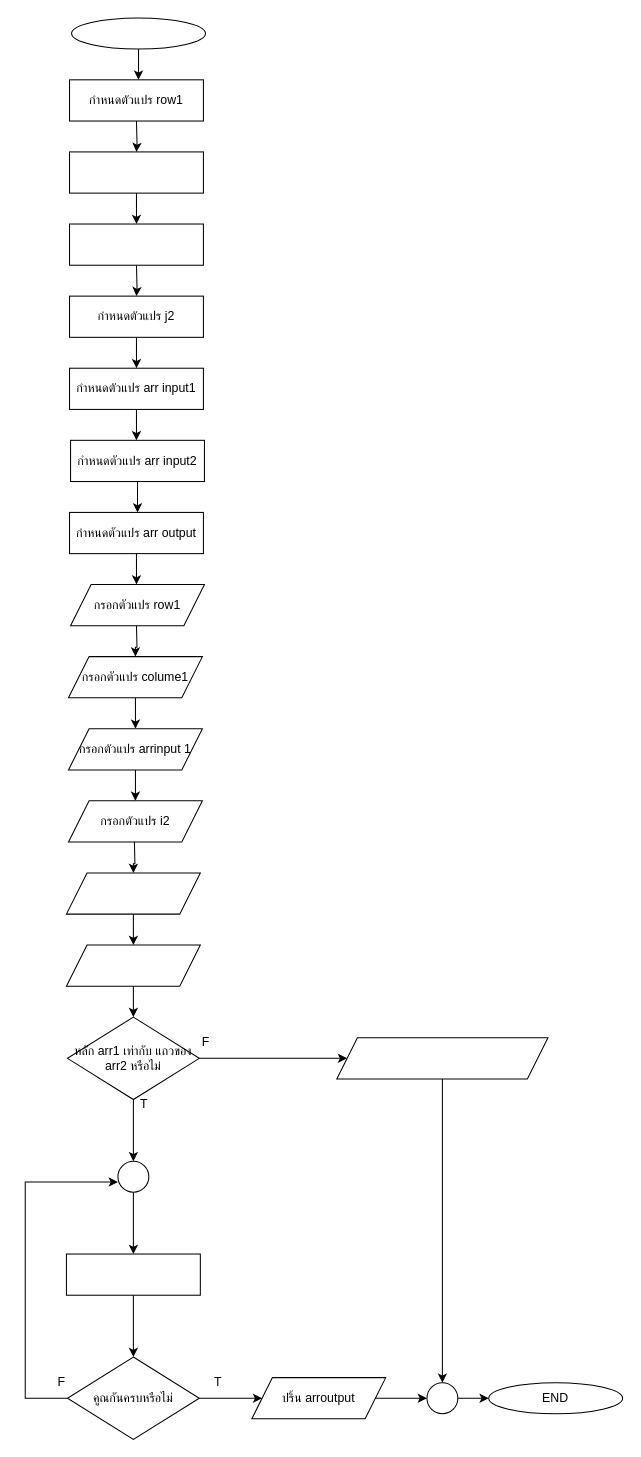
The diagram is 641 pixels wide and 1457 high, and some of its shapes have lost their labels. Each missing label, with the box of its shape:
input1 =* input2: (65, 1253, 200, 1295)
Matrix1 and Matrix2 connot multiply: (336, 1037, 548, 1079)
Start: (71, 17, 205, 49)
กรอกตัวแปร arrinput 2: (65, 944, 200, 986)
กรอกตัวแปร j2: (65, 872, 200, 914)
กำหนดตัวแปร colume1: (68, 151, 203, 193)
กำหนดตัวแปร i2: (68, 223, 203, 265)
